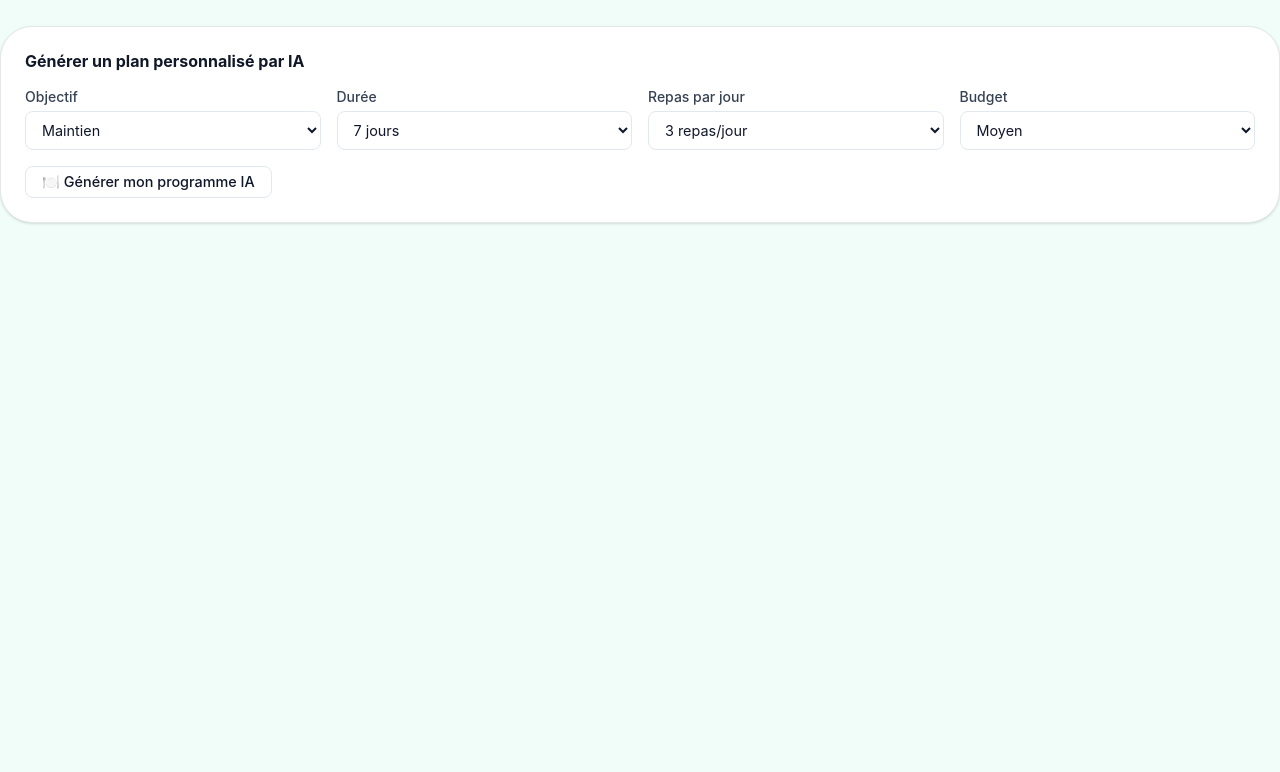
Test: ProgramPage › shows shopping list toggle
Click the button "🍽️ Générer mon programme IA". click: point(148, 182)
box: [25,166,272,198]
(page scrolled)
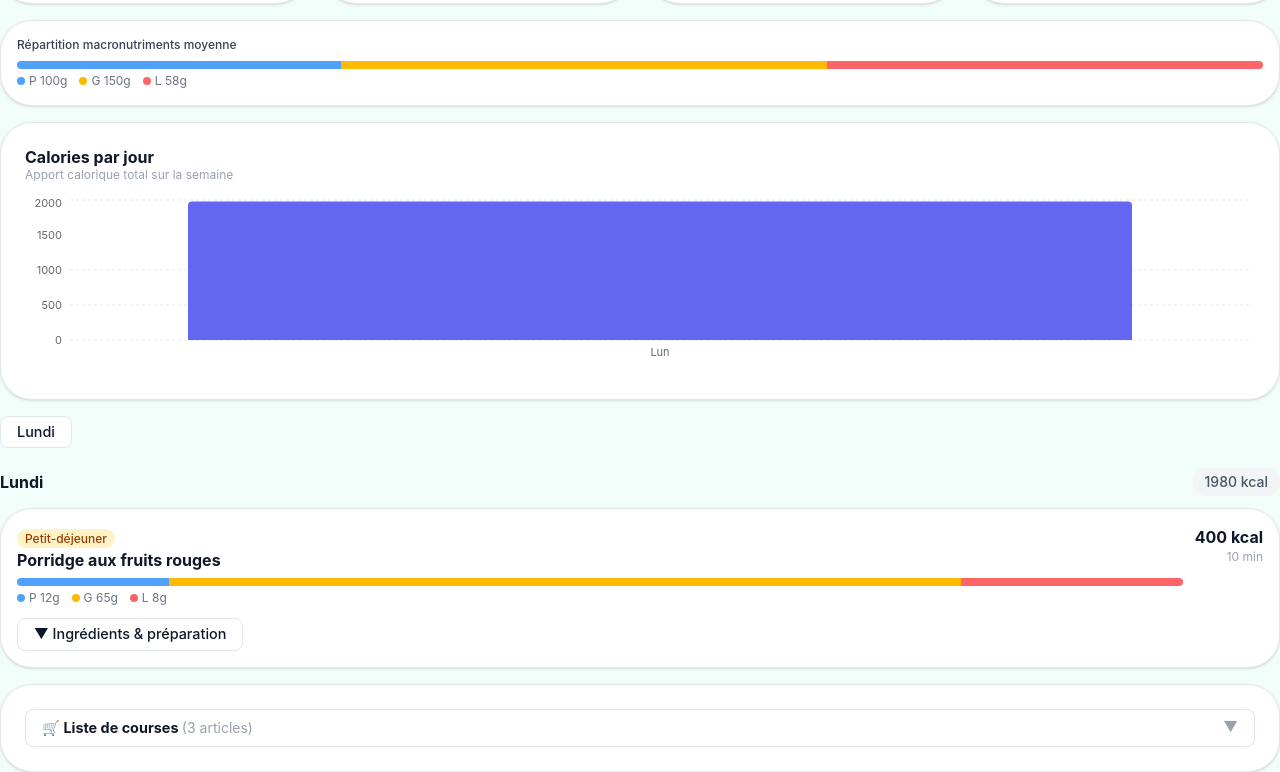
Expected: the heading "🛒 Liste de courses (3 articles)" is shown, [42,718,253,738]
